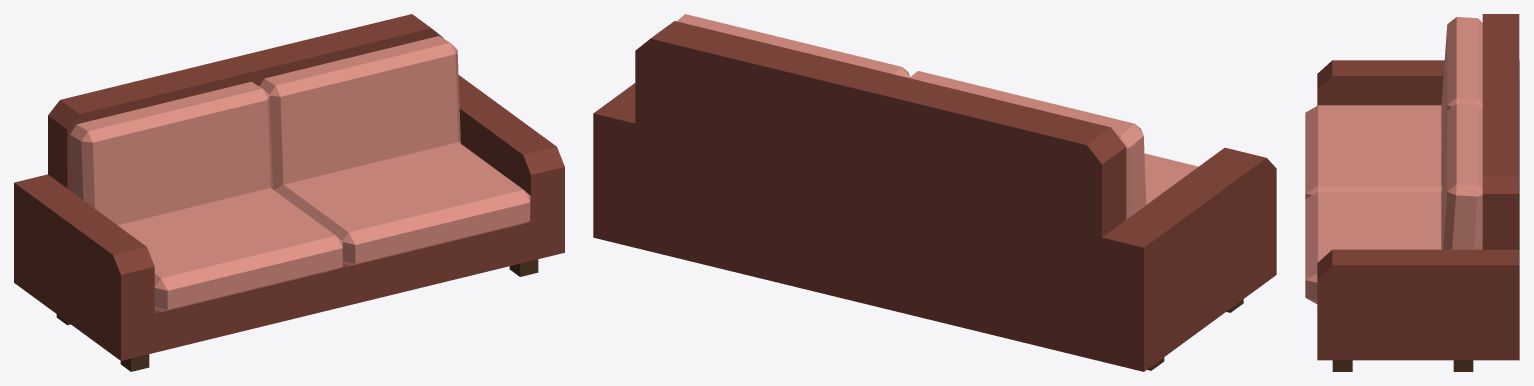
Rendered from Couch.fbx.
The picture shows the model from 3 angles, left to right: view 1: azimuth 30°, elevation 25°; view 2: azimuth 150°, elevation 25°; view 3: azimuth 270°, elevation 25°; orthographic projection. The views are drawn at different scales.
Visible parts, largest first — view 1: Couch; view 2: Couch; view 3: Couch.
Part boxes in pixels (x1,y1,x2,y2): Couch: (14,14,564,371); Couch: (593,14,1276,371); Couch: (1305,14,1519,371).
Bounding box in the file's own units: 3.18 × 1.32 × 1.4.
